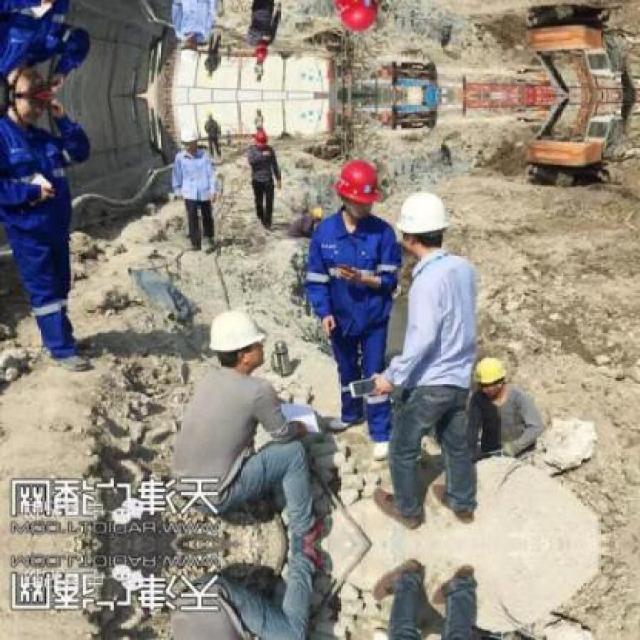Reflective-Jacket: (291, 214, 406, 324), (242, 145, 278, 187)
Safety-Helmet: (198, 302, 274, 362), (388, 182, 458, 247), (326, 154, 389, 211), (461, 347, 514, 395), (250, 128, 272, 148)
